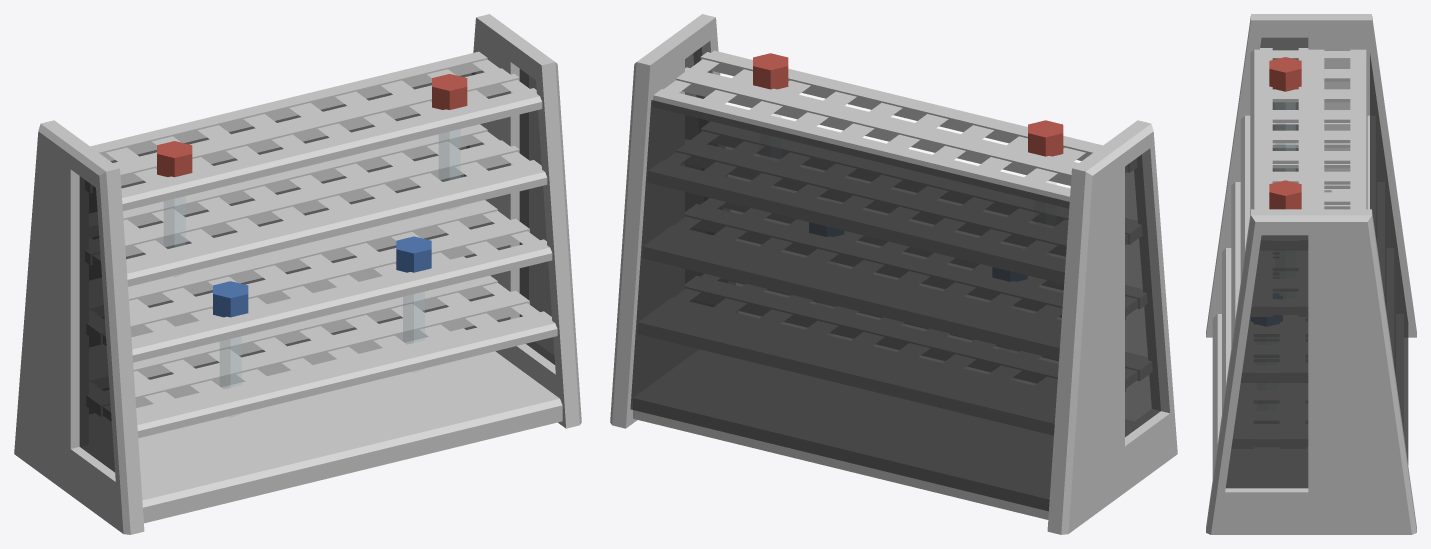
File: sample-tube-rack-3a32bd.glb
3 renders of one model, left to right at view 1: azimuth 30°, elevation 25°; view 2: azimuth 150°, elevation 25°; view 3: azimuth 270°, elevation 25°, orthographic. The views are drawn at different scales.
Visible parts, largest first — view 1: sample-tube-rack, sample-tube; view 2: sample-tube-rack, sample-tube; view 3: sample-tube-rack, sample-tube.
Boxes of the visible parts, x1,y1,x2,y2 form: sample-tube-rack: (14,14,581,534); sample-tube: (432,74,467,209); sample-tube-rack: (610,14,1177,534); sample-tube: (753,53,788,117); sample-tube-rack: (1206,14,1416,534); sample-tube: (1269,180,1301,209).
Bounding box in the file's own units: 0.3 × 0.216 × 0.13.
